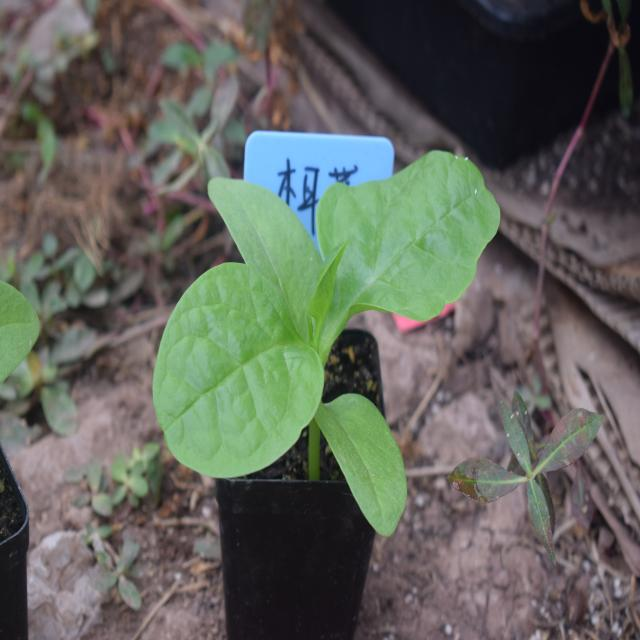Ceylon spinach: (140, 141, 488, 531)
